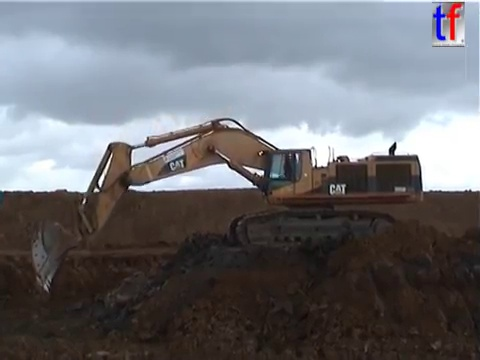excavator: (28, 114, 426, 298)
